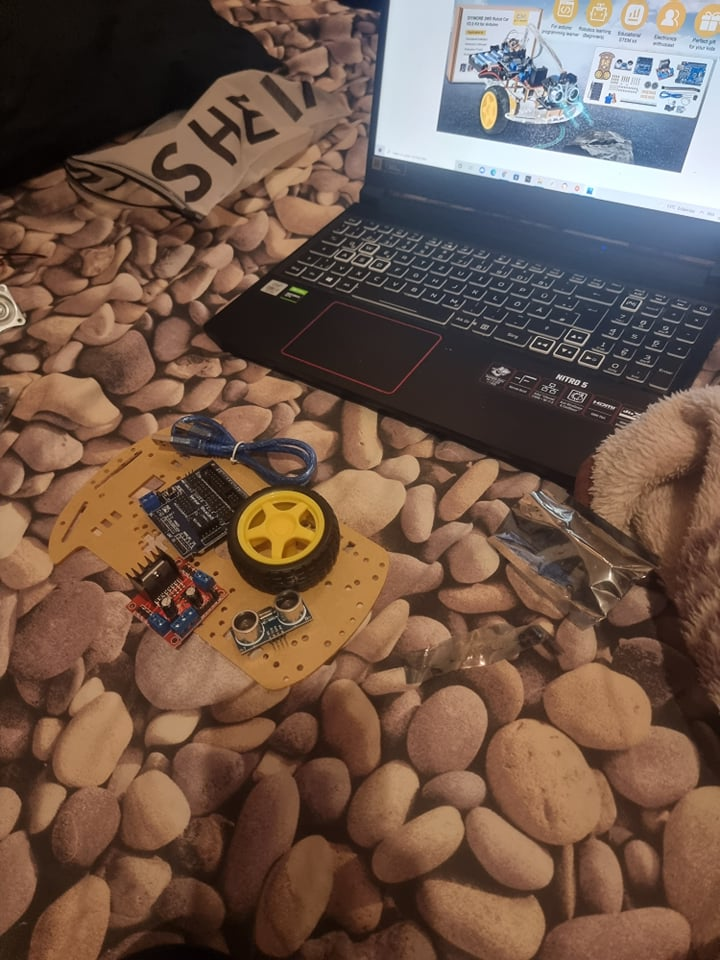5V EXPANSION: (141, 457, 247, 558)
MOTOR: (122, 546, 225, 653)
SENSOR: (224, 592, 312, 651), (544, 84, 583, 107), (617, 57, 637, 72)
UNO R3: (677, 58, 705, 88)
